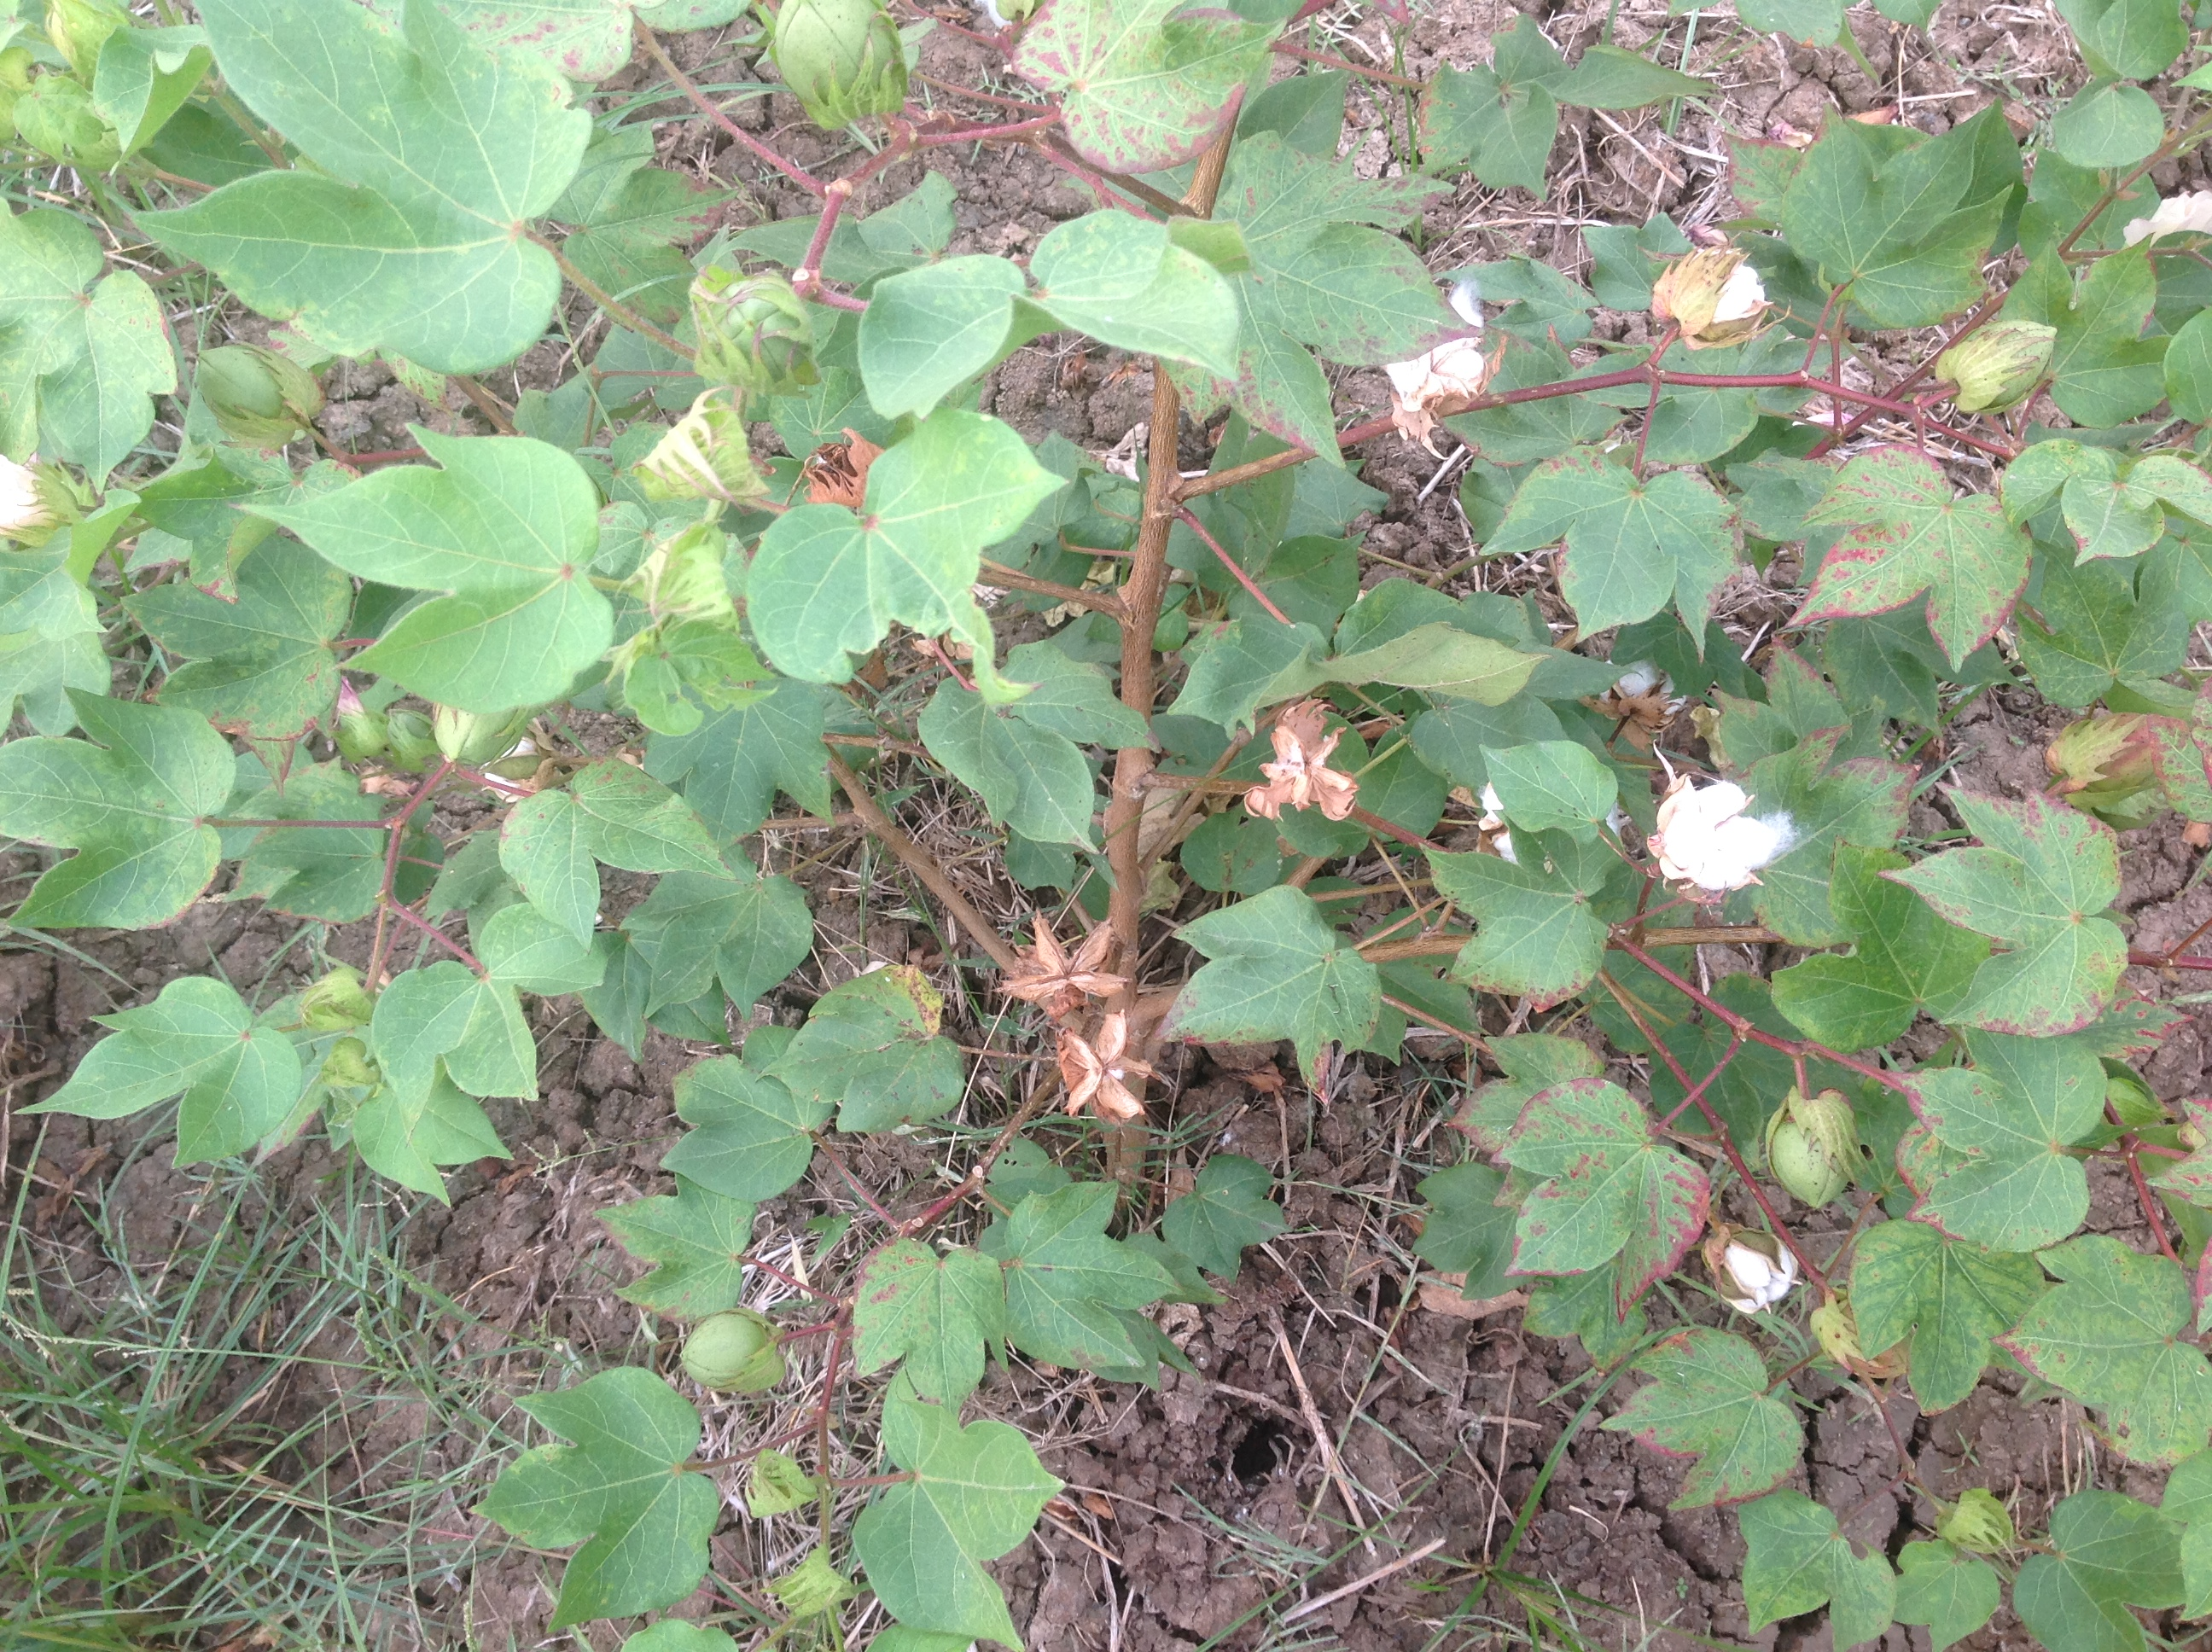cotton: (1376, 272, 1509, 427), (1646, 762, 1787, 899), (1697, 1208, 1801, 1329), (1669, 243, 1780, 335)
